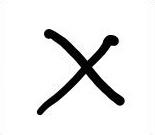mult: (36, 29, 127, 118)
